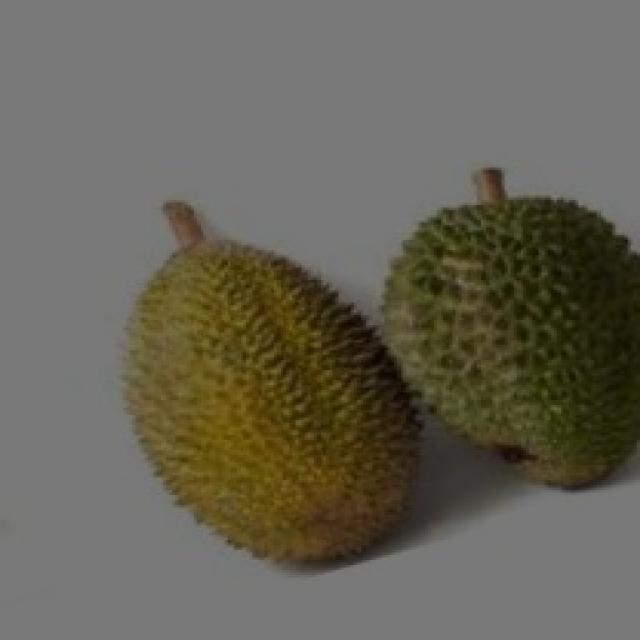fruit: (71, 217, 458, 615), (341, 167, 640, 514)
